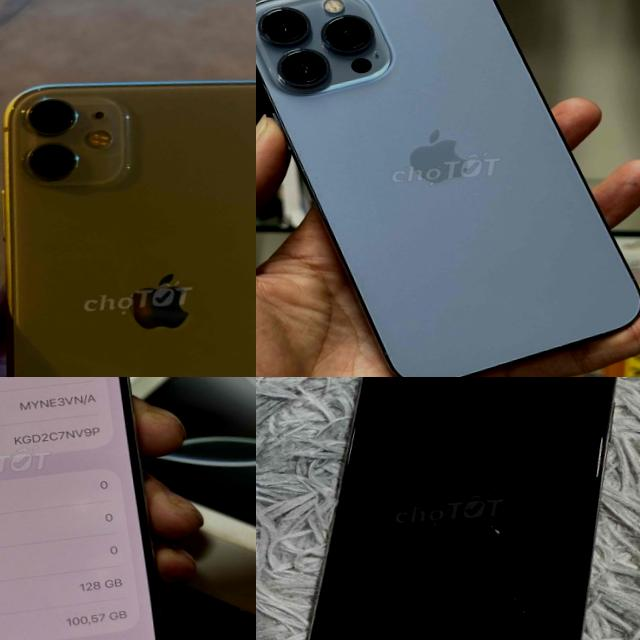gen_11: (0, 52, 256, 377)
gen_12_13: (256, 0, 640, 377)
gen_16: (0, 377, 163, 640)
gen_x_xs: (307, 377, 615, 640)
